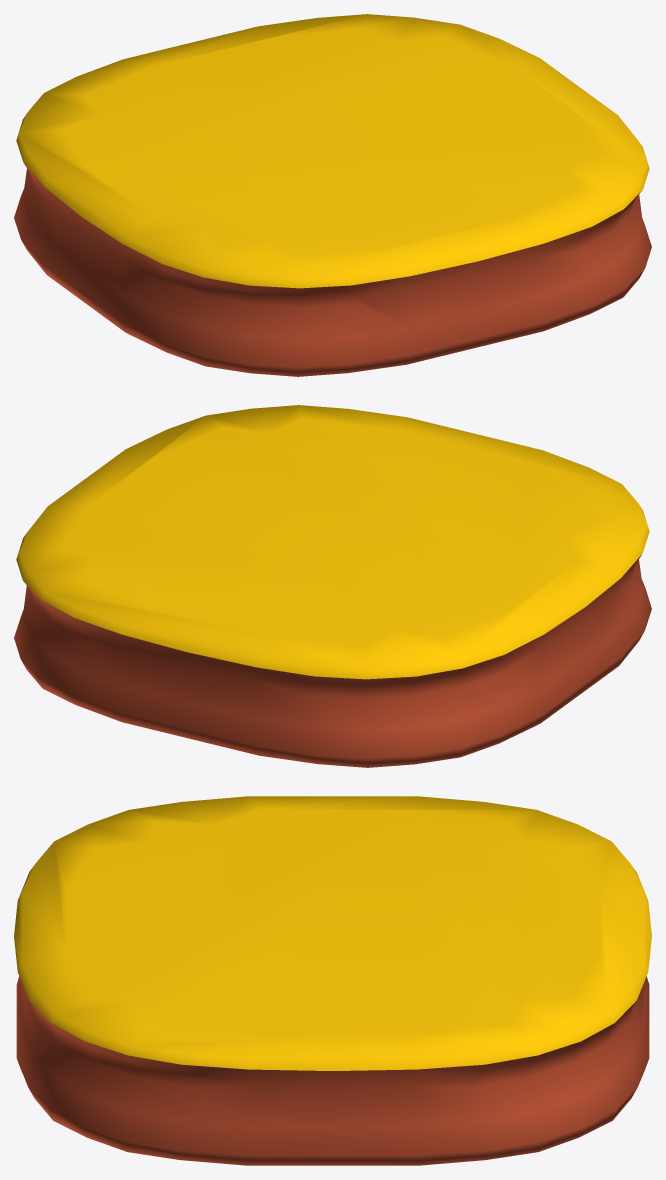
File: Platform2.fbx
3 views of the same model, one above another, from view 1: azimuth 30°, elevation 25°; view 2: azimuth 150°, elevation 25°; view 3: azimuth 270°, elevation 25° (orthographic). The views are drawn at different scales.
Visible parts, largest first — view 1: Platform2; view 2: Platform2; view 3: Platform2.
Part boxes in pixels (x1,y1,x2,y2): Platform2: (14, 14, 651, 376); Platform2: (14, 405, 651, 767); Platform2: (14, 796, 651, 1165).
Bounding box in the file's own units: 5.56 × 5.56 × 1.08.
